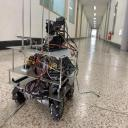cart: (6, 44, 80, 121)
